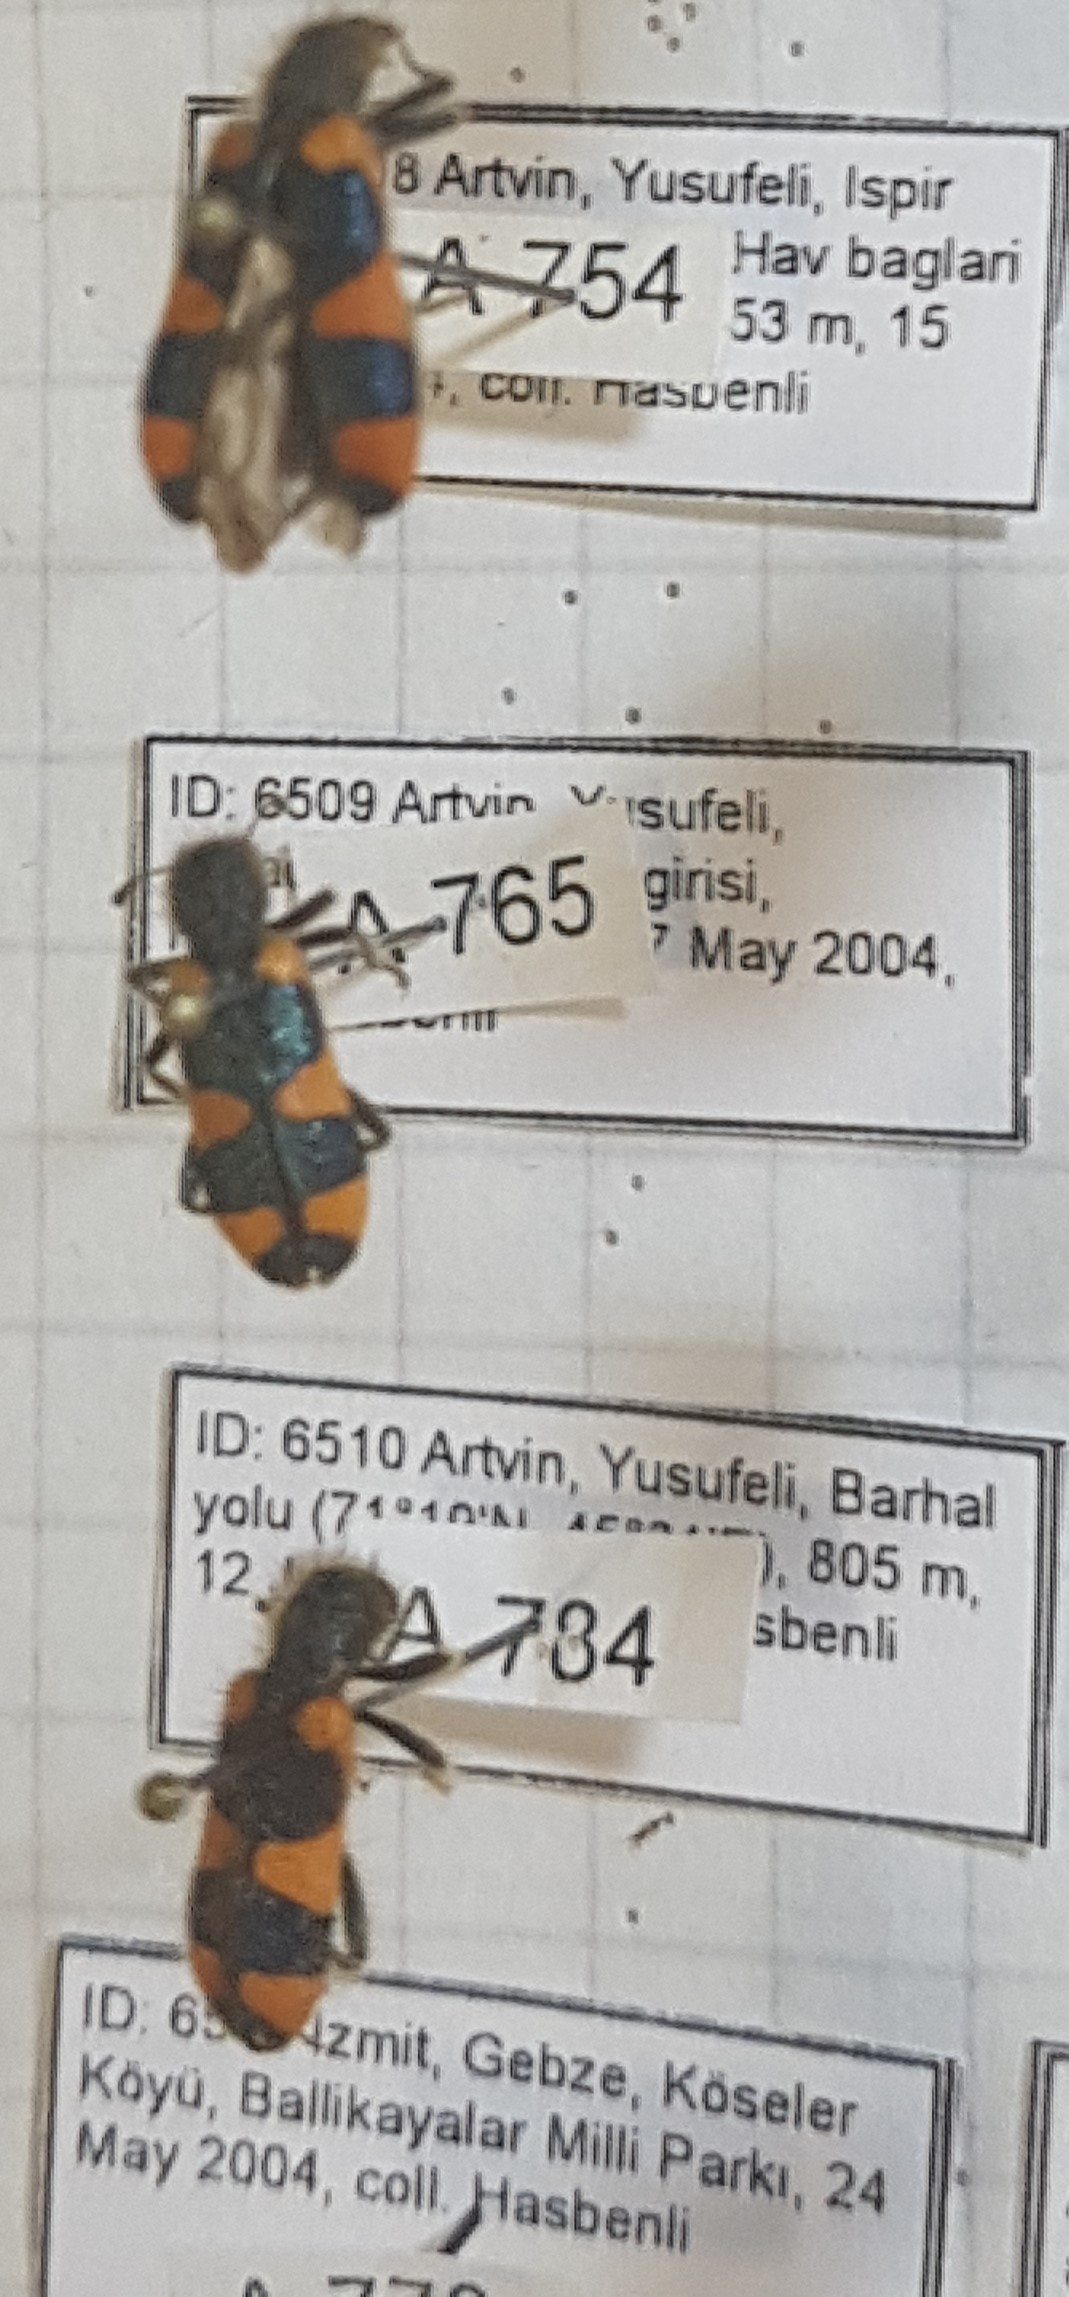trichodes_holtzi: (107, 1, 469, 582), (122, 819, 438, 1336), (174, 1557, 472, 2071)
